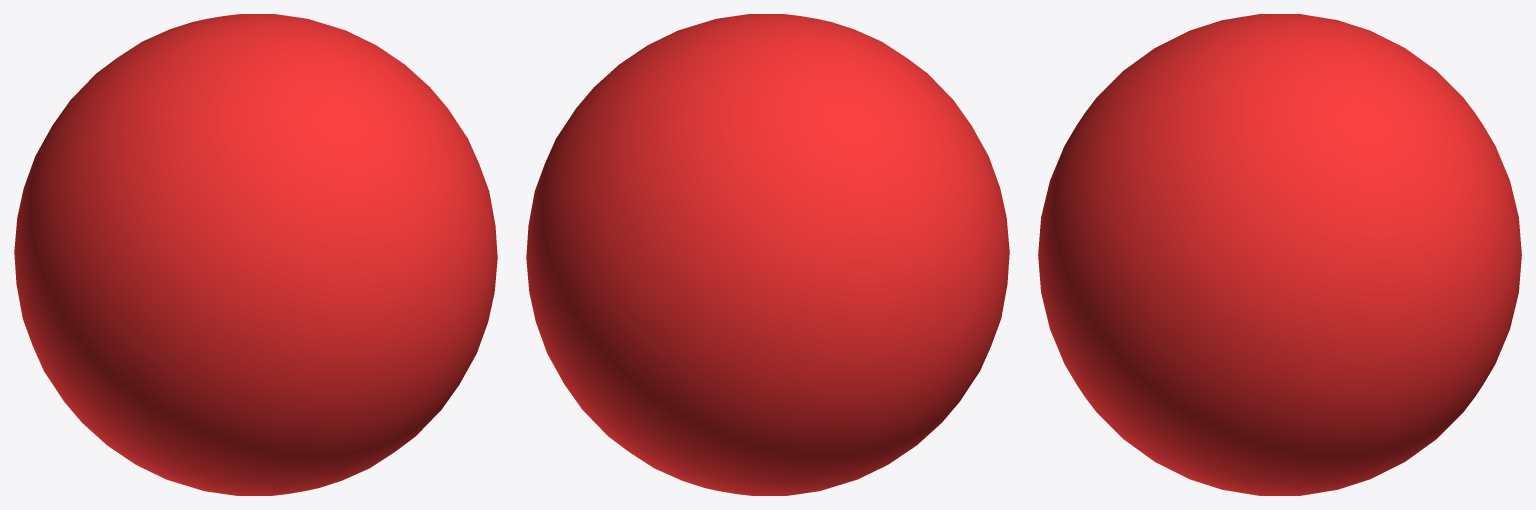
File: s_red.glb
3 renders of one model, left to right at view 1: azimuth 30°, elevation 25°; view 2: azimuth 150°, elevation 25°; view 3: azimuth 270°, elevation 25°, orthographic.
Parts seen in each view (by area): view 1: sphere; view 2: sphere; view 3: sphere.
Boxes of the visible parts, left/top/right/bottom form: sphere: left=14, top=14, right=497, bottom=495; sphere: left=526, top=14, right=1009, bottom=495; sphere: left=1038, top=14, right=1521, bottom=495.
Bounding box in the file's own units: 0.6 × 0.6 × 0.6.
